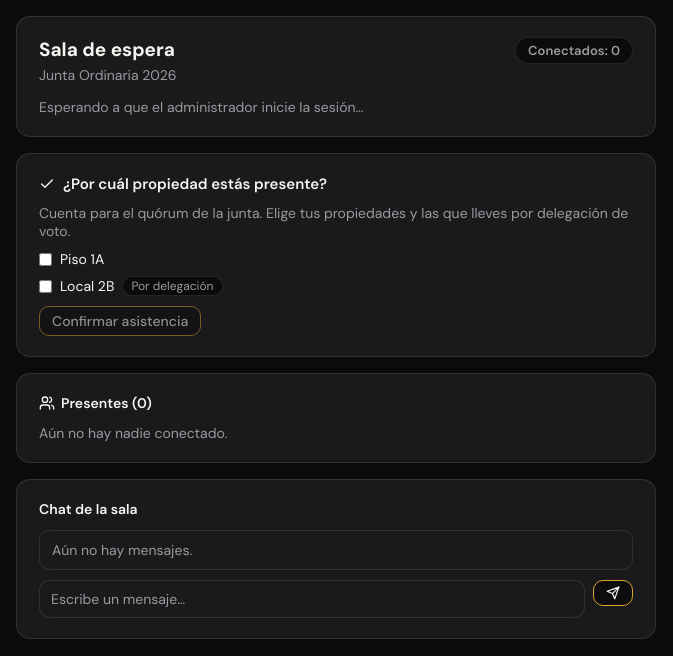
Test: WaitingRoomComponent › confirmación de asistencia (quórum) › con varias propiedades, ninguna preseleccionada; al marcar y confirmar, manda POST con las elegidas
This screenshot has width=673, height=656.
Click the checkbox labelled "Local 2B Por delegación". click: (46, 286)
box: x1=39 y1=280 x2=52 y2=292
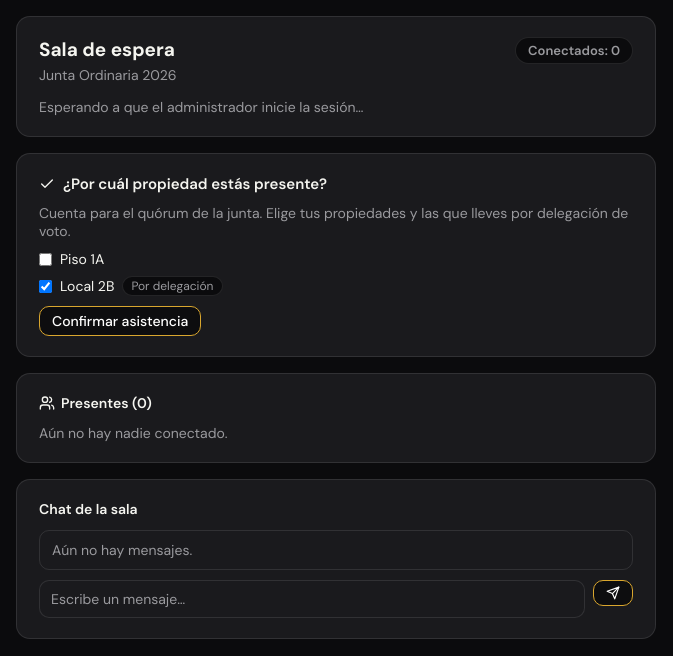
Click the button "Confirmar asistencia". click: (120, 321)
box: x1=39 y1=306 x2=201 y2=336
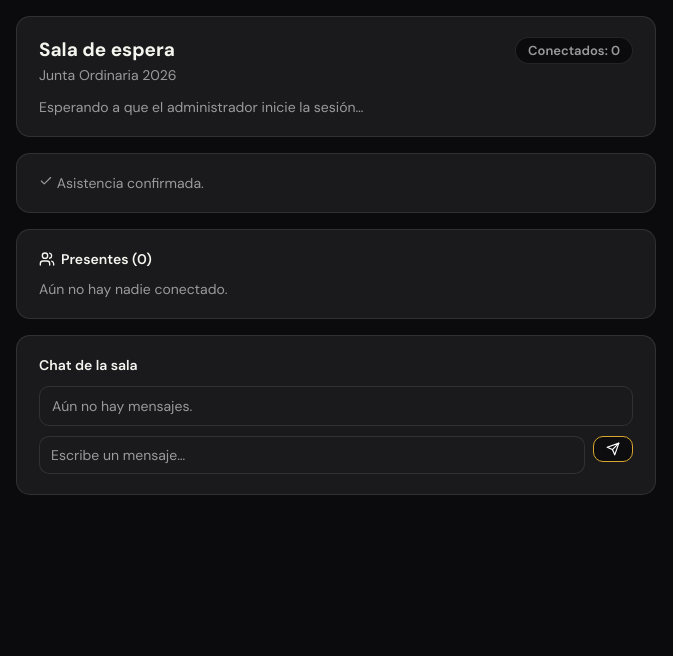
Now the text "Asistencia confirmada." is shown, box x1=39 y1=174 x2=204 y2=192
